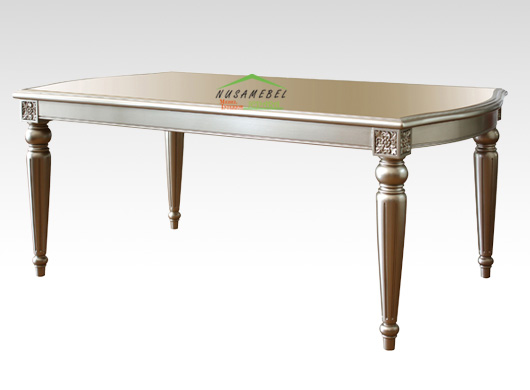Carving Table: (17, 65, 502, 352)
